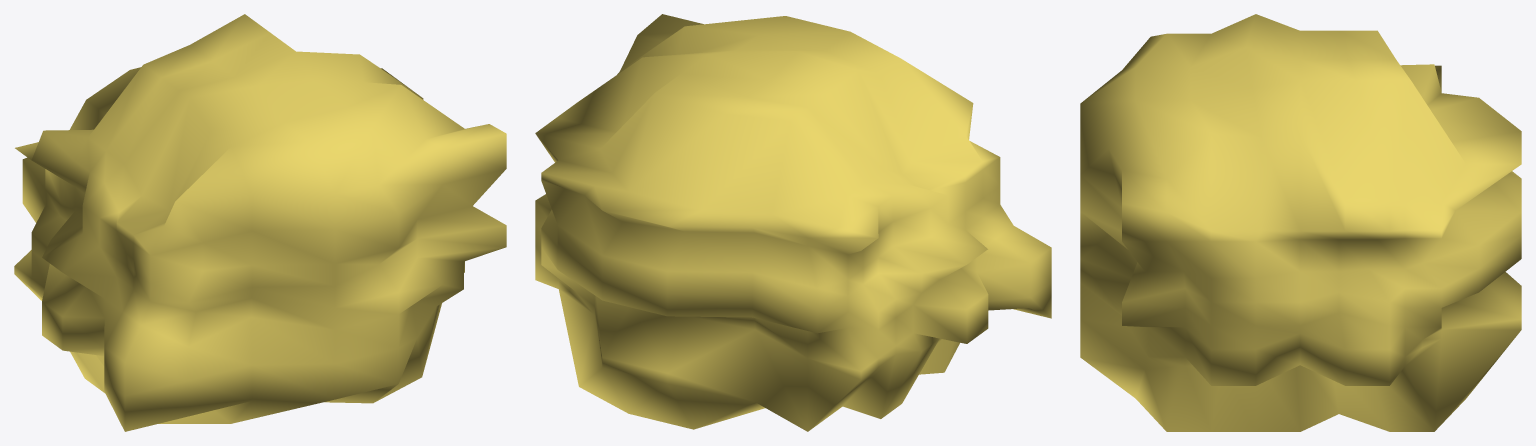
The model's file is crumpledPaper.fbx.
The picture shows the model from 3 angles, left to right: view 1: azimuth 30°, elevation 25°; view 2: azimuth 150°, elevation 25°; view 3: azimuth 270°, elevation 25°; orthographic projection. The views are drawn at different scales.
Visible parts, largest first — view 1: Crumpled Paper; view 2: Crumpled Paper; view 3: Crumpled Paper.
Boxes of the visible parts, x1=… form: Crumpled Paper: x1=14, y1=14, x2=506, y2=431; Crumpled Paper: x1=535, y1=14, x2=1051, y2=431; Crumpled Paper: x1=1080, y1=14, x2=1521, y2=431.
Bounding box in the file's own units: 232 × 170 × 214.
